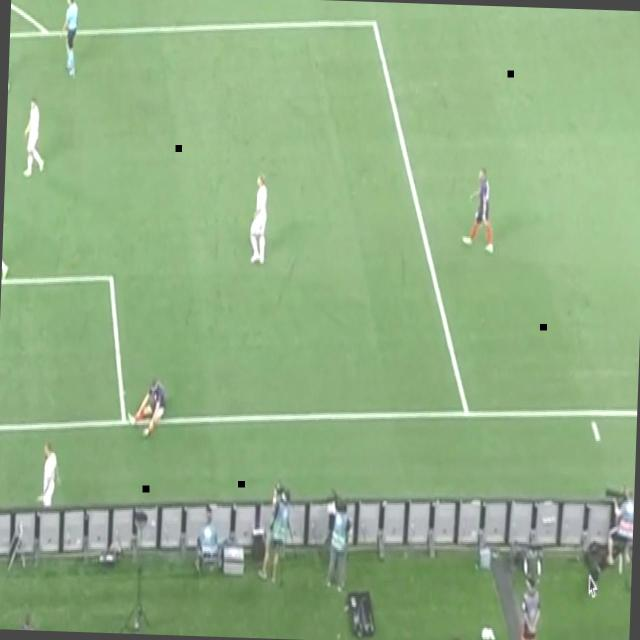player-white: (458, 162, 499, 256), (126, 370, 170, 440), (16, 92, 49, 182), (246, 168, 272, 272), (34, 439, 64, 519), (54, 0, 81, 80), (1, 185, 13, 285), (8, 14, 15, 96)
